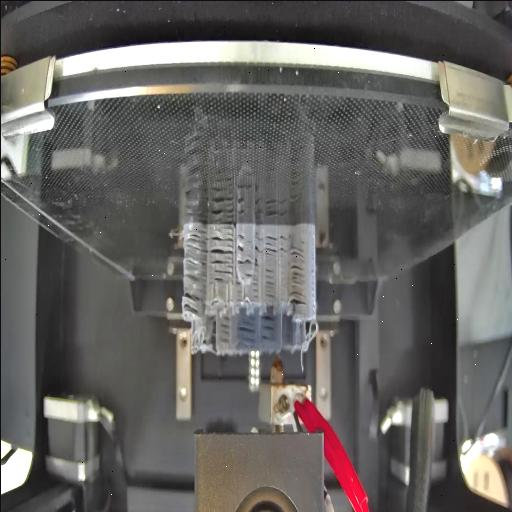cracks: (184, 228, 206, 282), (288, 249, 306, 305), (210, 226, 234, 264), (254, 232, 288, 254), (182, 291, 204, 318), (238, 318, 256, 340), (261, 312, 275, 340), (264, 264, 276, 296), (214, 266, 233, 282), (232, 280, 244, 304), (219, 314, 229, 342), (236, 256, 260, 266), (236, 231, 244, 254), (252, 276, 258, 300), (244, 270, 252, 278)
